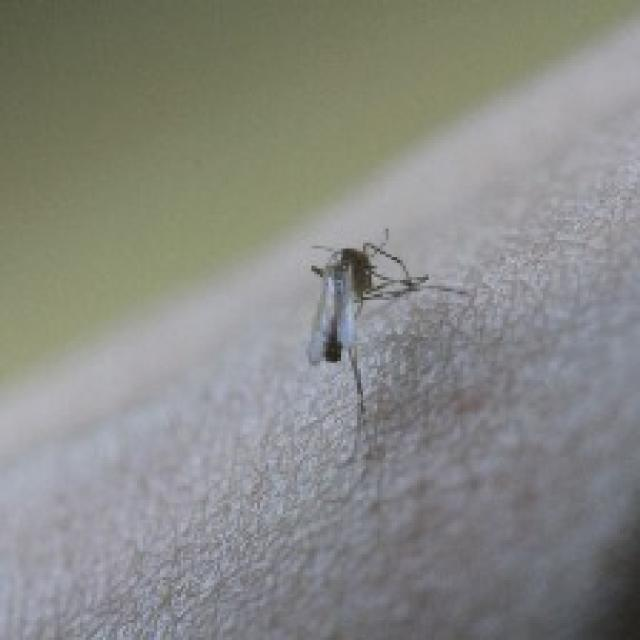culex: (303, 226, 468, 417)
